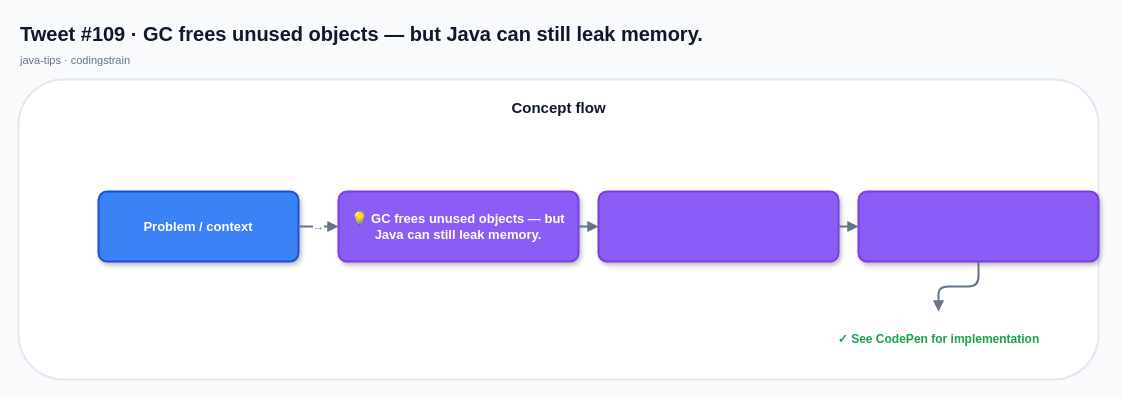
This 1122x397 diagram has some shape labels left out. The centre of each missing label's shape, as x and y in pixels:
A growing collection holds every object forever: (979,227)
Anything still reachable (static lists, caches, listeners) stays alive: (719,227)
